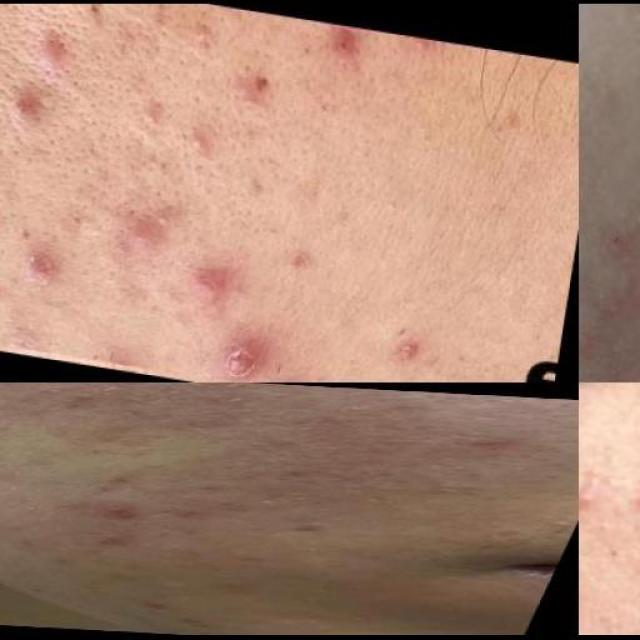blackhead: (256, 77, 266, 85), (398, 328, 406, 337), (256, 84, 263, 92), (22, 231, 29, 238), (73, 218, 80, 225), (180, 133, 187, 140), (90, 7, 98, 13), (304, 47, 310, 54), (160, 163, 166, 169), (155, 192, 160, 197), (73, 81, 78, 86), (276, 367, 280, 373), (130, 211, 135, 215)
nodule: (123, 219, 161, 256), (224, 343, 260, 377), (36, 39, 69, 75), (187, 272, 224, 303), (10, 97, 34, 126), (26, 255, 50, 283)
